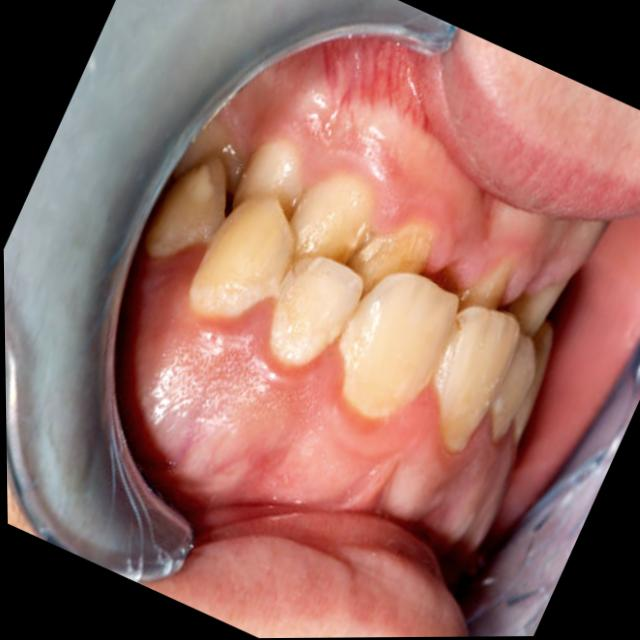calculus: (271, 307, 337, 362), (191, 274, 272, 318), (361, 227, 430, 273), (440, 387, 486, 441), (271, 262, 294, 299)
gingivitis: (132, 258, 512, 462)
